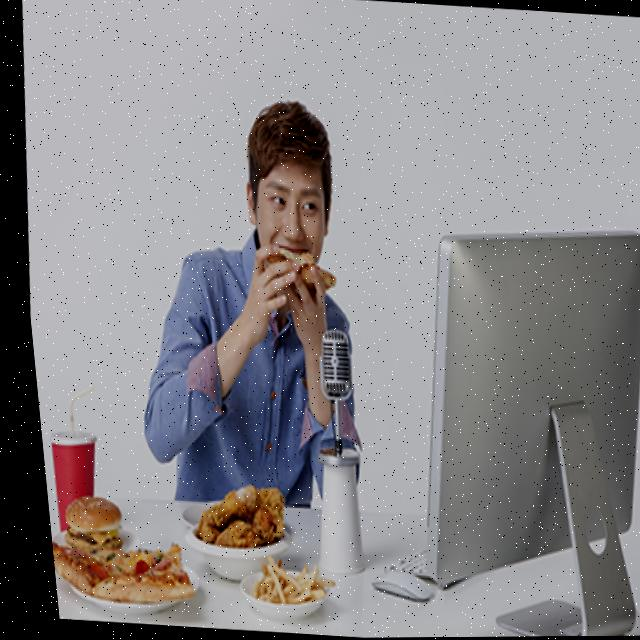eating-person: (90, 67, 399, 583)
